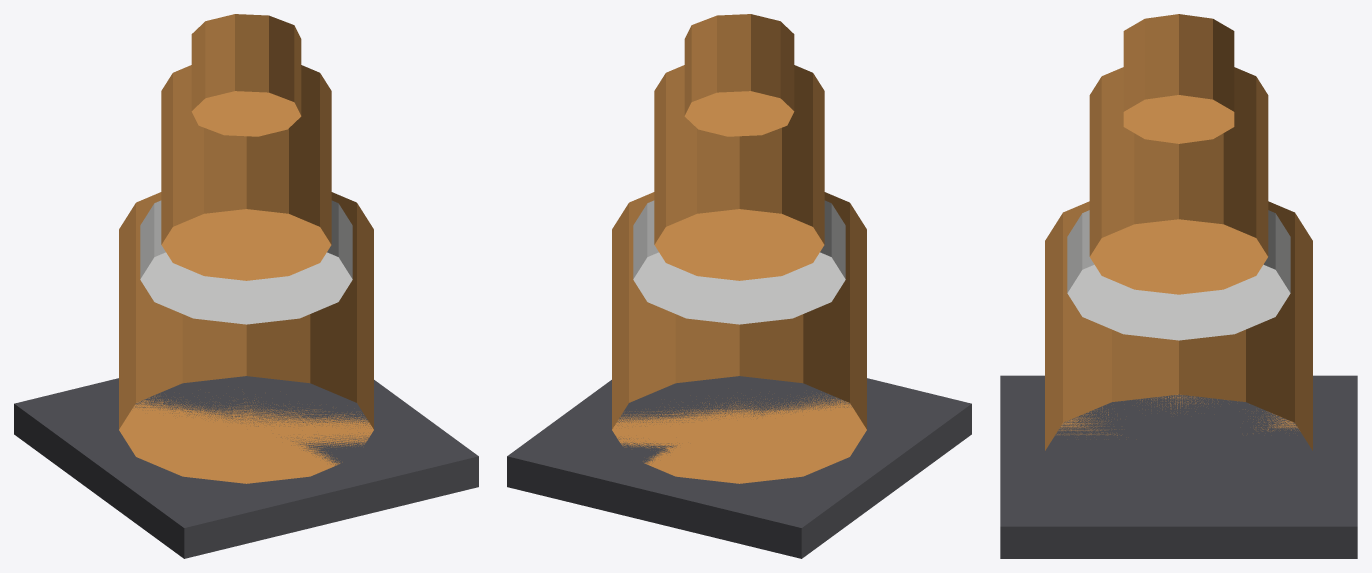
3 renders of one model, left to right at view 1: azimuth 30°, elevation 25°; view 2: azimuth 150°, elevation 25°; view 3: azimuth 270°, elevation 25°, orthographic. The views are drawn at different scales.
Visible parts, largest first — view 1: cone; view 2: cone; view 3: cone.
Part boxes in pixels (x1,y1,x2,y2): cone: [14, 14, 478, 558]; cone: [507, 14, 971, 558]; cone: [1000, 14, 1357, 558].
Size of the model in its own units: 0.4 by 0.55 by 0.4.
